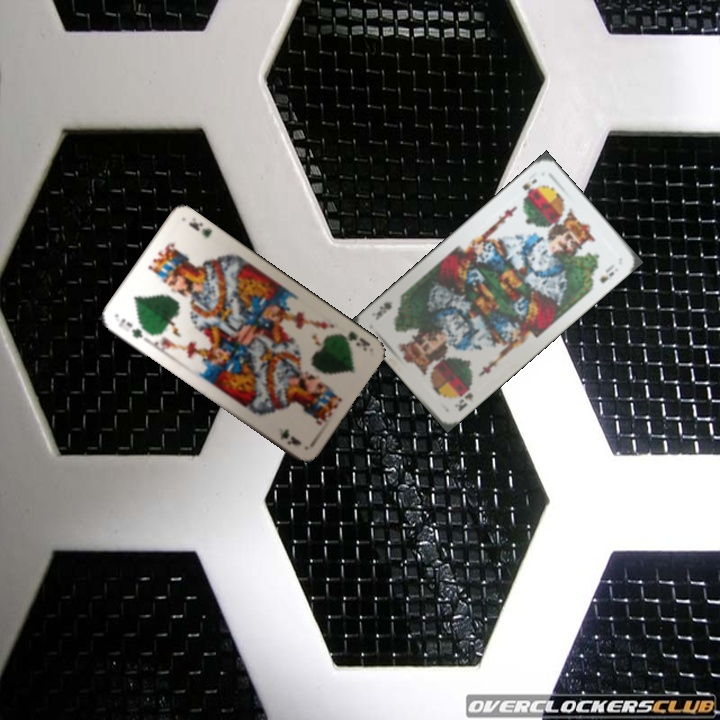GK: (334, 327, 373, 354), (114, 314, 145, 341)
SK: (451, 388, 476, 414), (518, 175, 540, 196)
